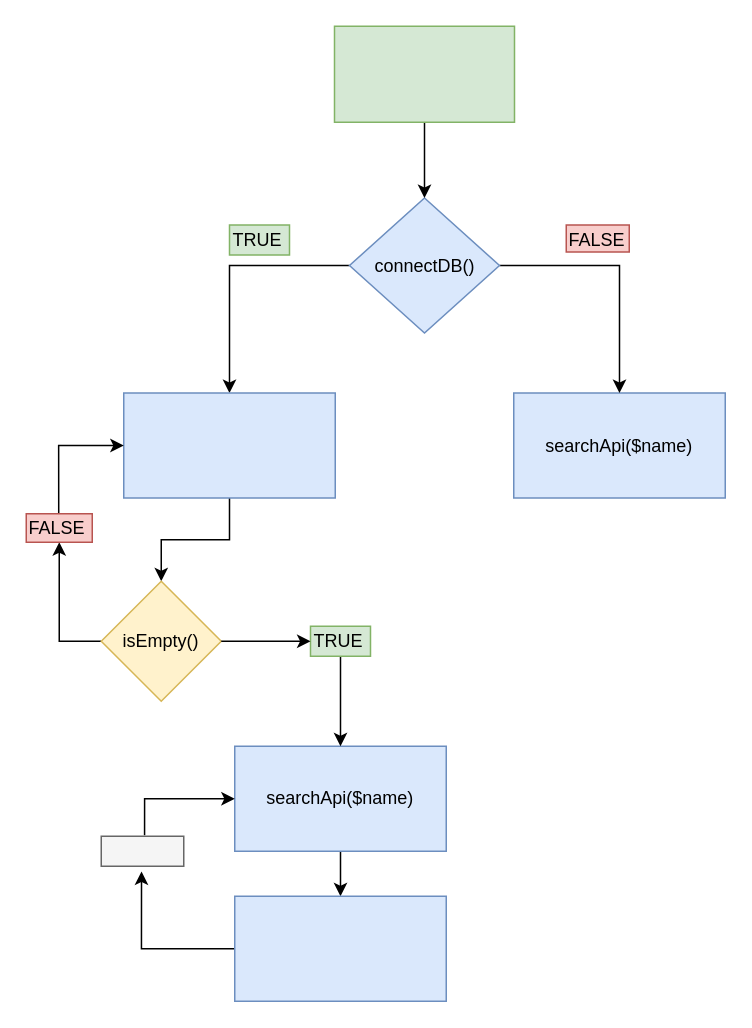
Image size: 752x1028. Some labels were removed from this diagram. Each missing label, with the centre of its shape:
BreedController: (423,73)
RETURN: (142,850)
searchDataBase($name): (228,445)
storageLocal($name): (339,948)
